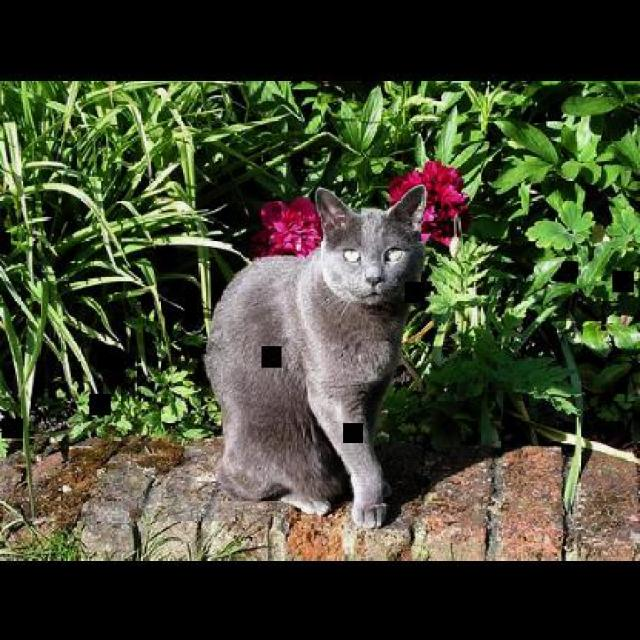unauthorized: (202, 183, 428, 529)
